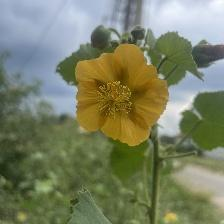indian mallow: (76, 43, 172, 150)
